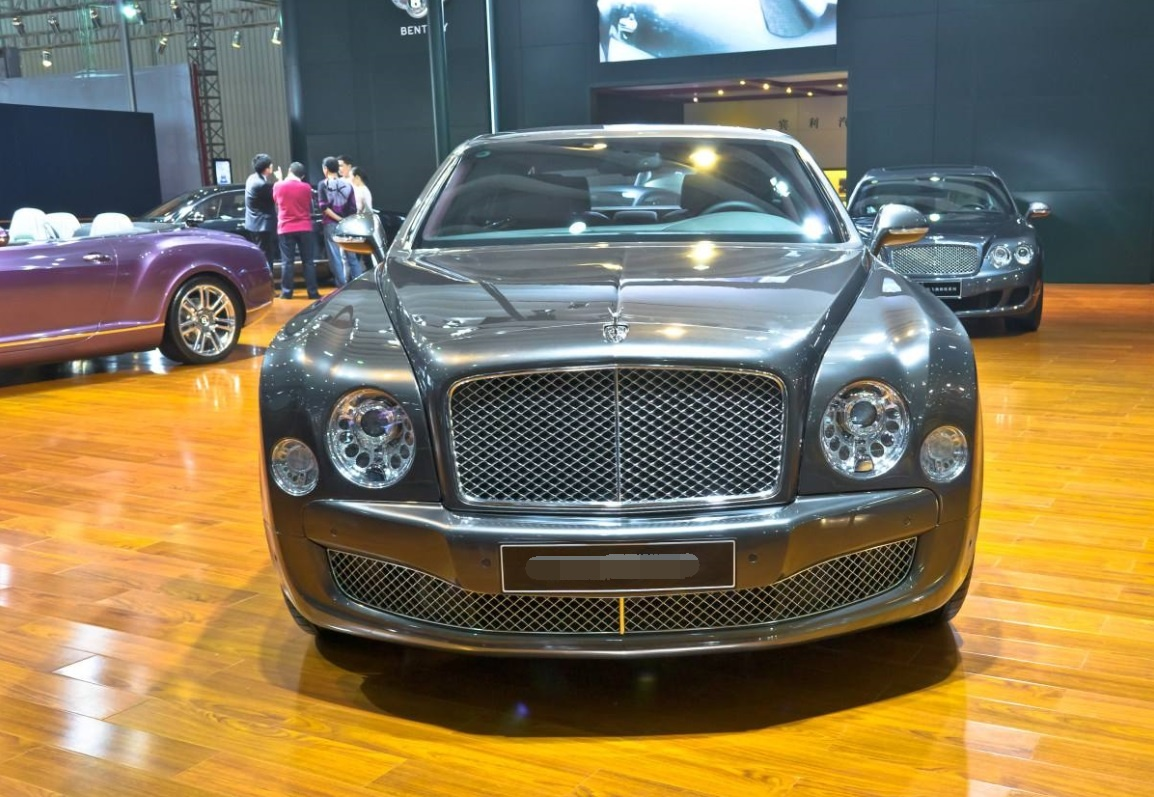family sedan: (243, 108, 1010, 674)
